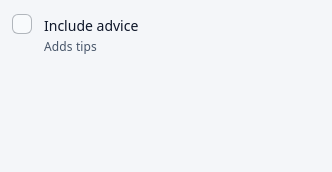
Test: Checkbox, Switch, SegmentedControl › Checkbox toggles with click and Space, and is described
The image size is (332, 172).
Click the checkbox labelled "Include advice".
click(22, 24)  # box [12,14,32,34]
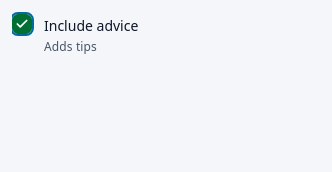
Result: the checkbox labelled "Include advice" is checked at [12,14,32,34]
Type keys " "
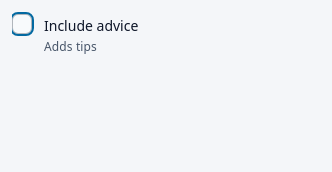
Result: the checkbox labelled "Include advice" is not checked at [12,14,32,34]
